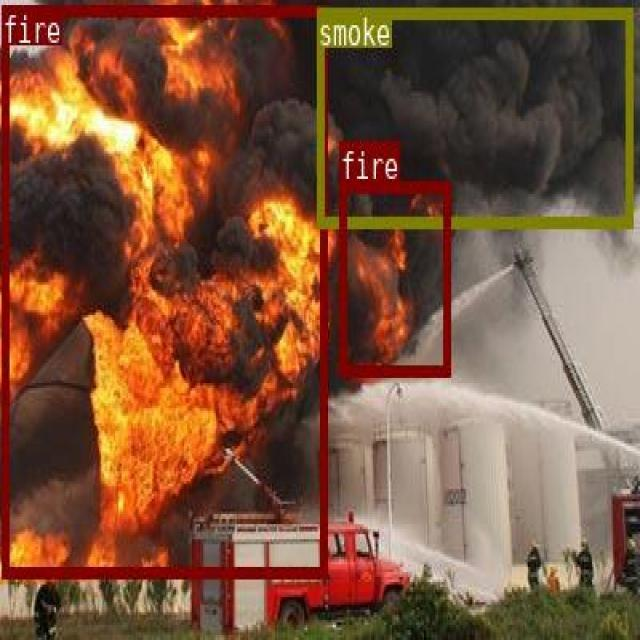fire: (0, 4, 326, 575), (338, 179, 449, 373)
smoke: (317, 6, 632, 226)
